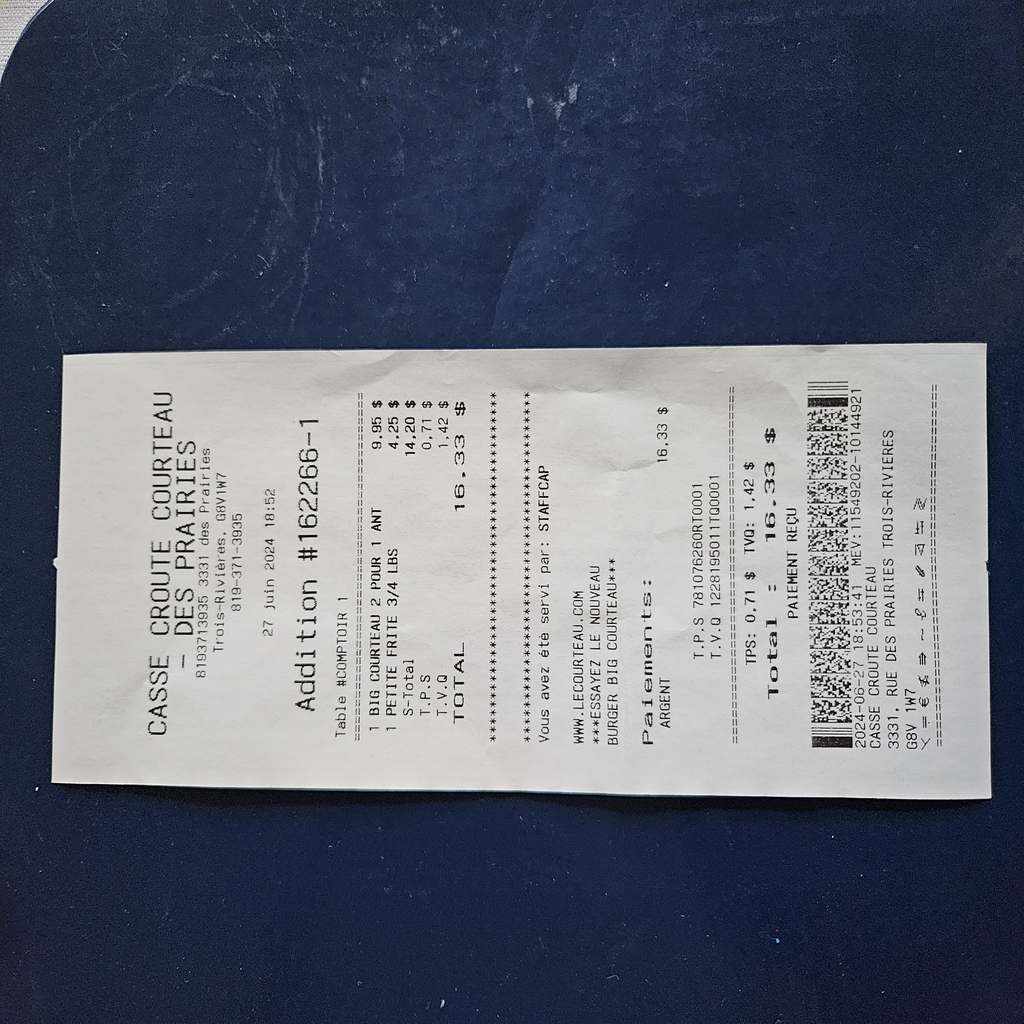recipt: (48, 340, 992, 800)
